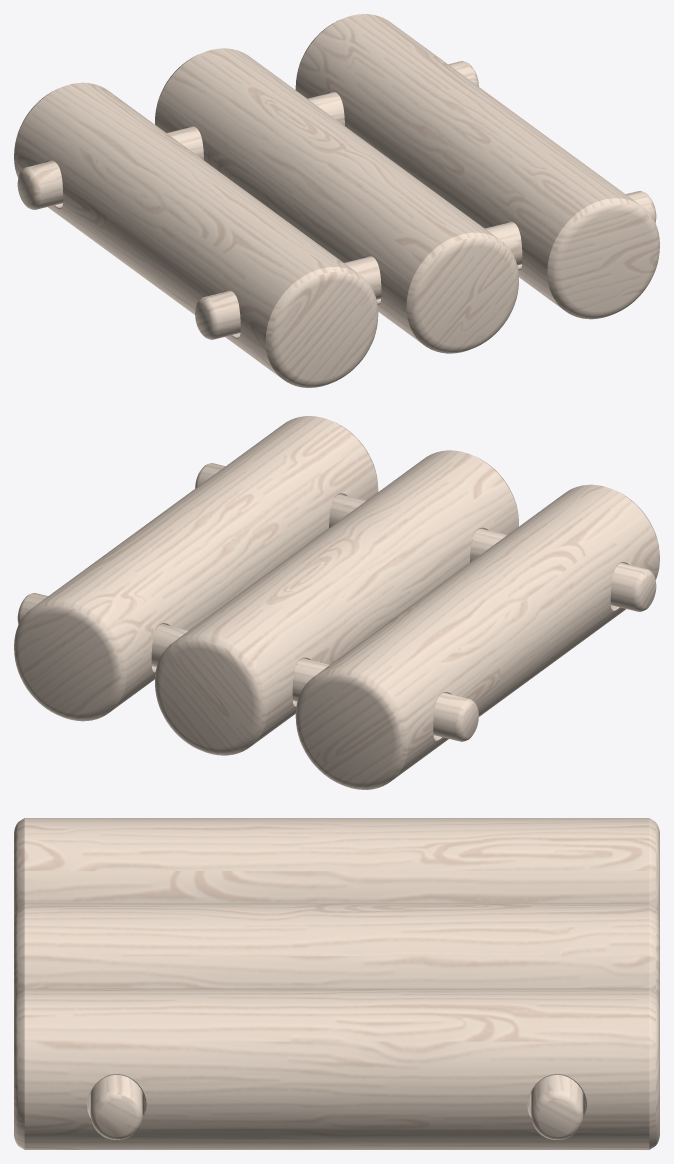
The model's file is bridge.fbx.
The picture shows the model from 3 angles, top to bottom: view 1: azimuth 30°, elevation 25°; view 2: azimuth 150°, elevation 25°; view 3: azimuth 270°, elevation 25°; orthographic projection. The views are drawn at different scales.
Visible parts, largest first — view 1: Bridge, Connectors; view 2: Bridge, Connectors; view 3: Bridge, Connectors.
Part boxes in pixels (bbox=[...]): Bridge: bbox=[14, 14, 659, 387]; Connectors: bbox=[17, 61, 656, 339]; Bridge: bbox=[14, 416, 659, 789]; Connectors: bbox=[17, 463, 656, 741]; Bridge: bbox=[14, 818, 659, 1149]; Connectors: bbox=[90, 1074, 583, 1139].
Bounding box in the file's own units: 198 × 50 × 200.
